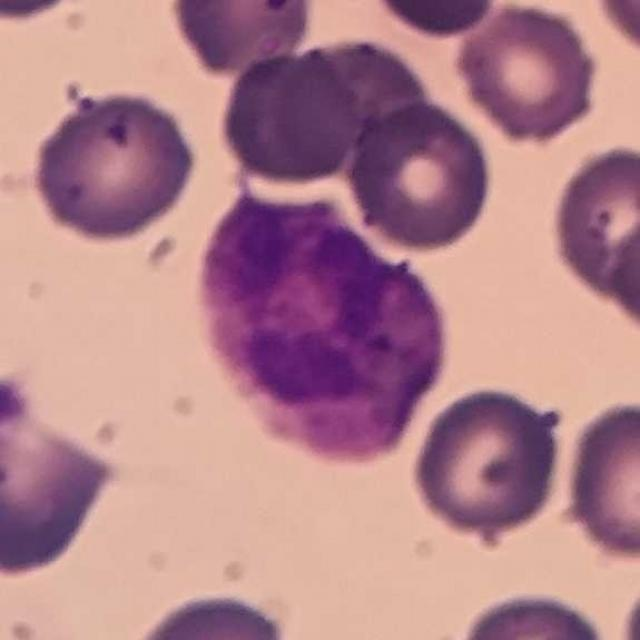Neutrophil: (187, 182, 459, 477)
Platelets: (0, 373, 32, 431)
RBC: (27, 81, 201, 246), (406, 380, 569, 544), (342, 96, 498, 255), (451, 0, 603, 147), (214, 42, 363, 188), (0, 415, 115, 577), (544, 138, 640, 324), (558, 394, 640, 563), (162, 0, 318, 79), (117, 585, 299, 640), (453, 584, 614, 640), (363, 0, 505, 41), (604, 196, 640, 348), (589, 0, 640, 63), (0, 0, 85, 24), (617, 569, 640, 639)
